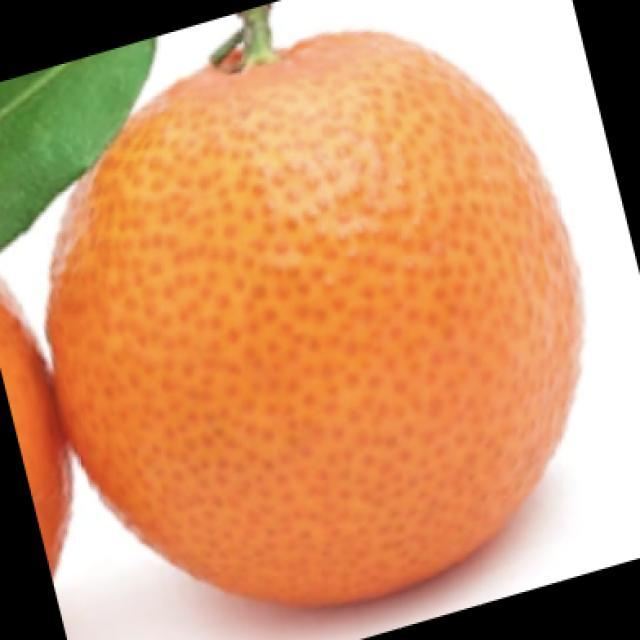matang: (48, 33, 580, 603)
